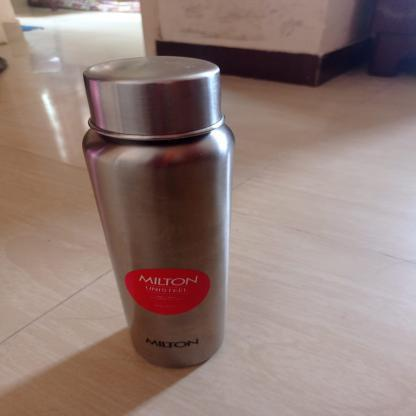bottle: (77, 49, 239, 375)
